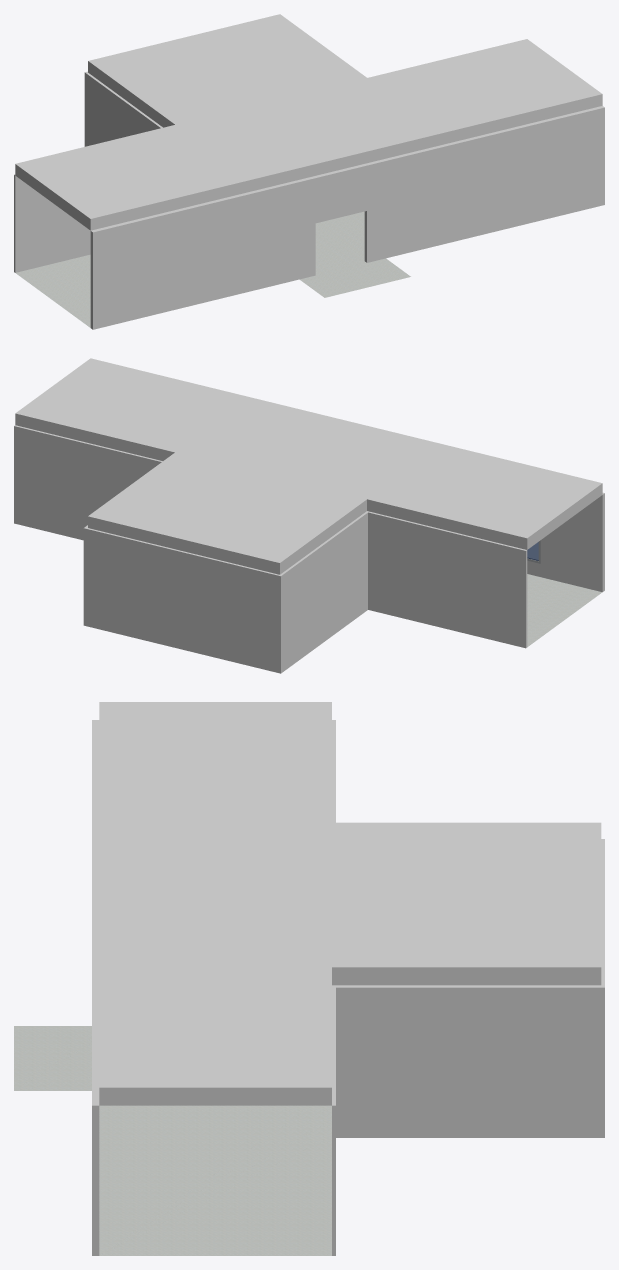
Rendered from recibidor_etsii.fbx.
The picture shows the model from 3 angles, top to bottom: view 1: azimuth 30°, elevation 25°; view 2: azimuth 150°, elevation 25°; view 3: azimuth 270°, elevation 25°; orthographic projection. The views are drawn at different scales.
Parts seen in each view (by area): view 1: Model; view 2: Model; view 3: Model.
Part boxes in pixels (bbox=[...]): Model: bbox=[14, 14, 604, 329]; Model: bbox=[14, 358, 604, 673]; Model: bbox=[14, 702, 604, 1255].
Size of the model in its own units: 22 by 4.48 by 14.25.
